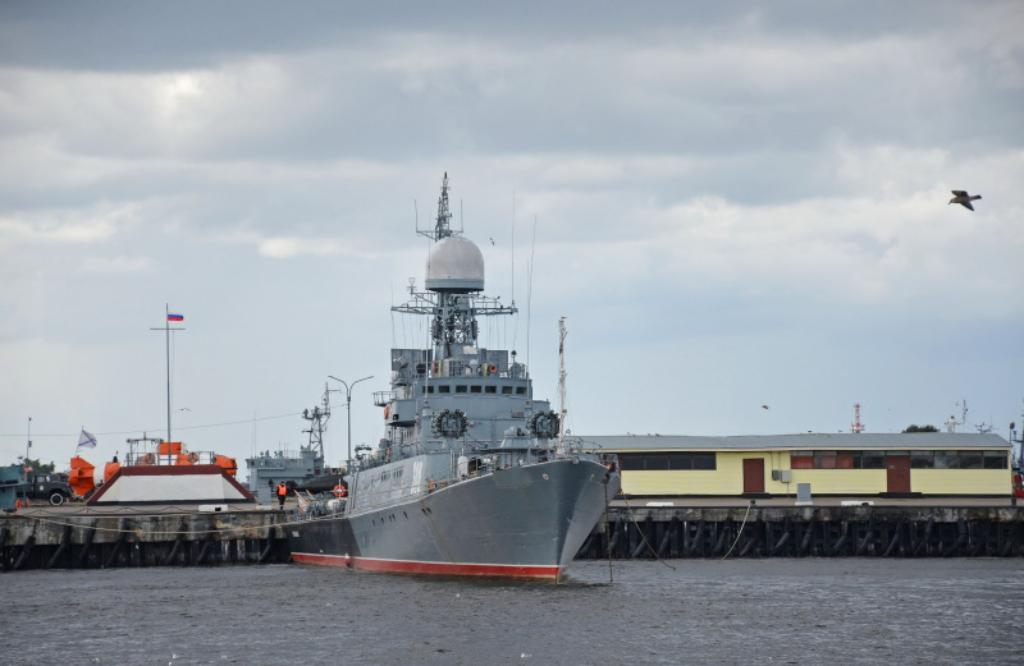Warship: (282, 164, 624, 586)
